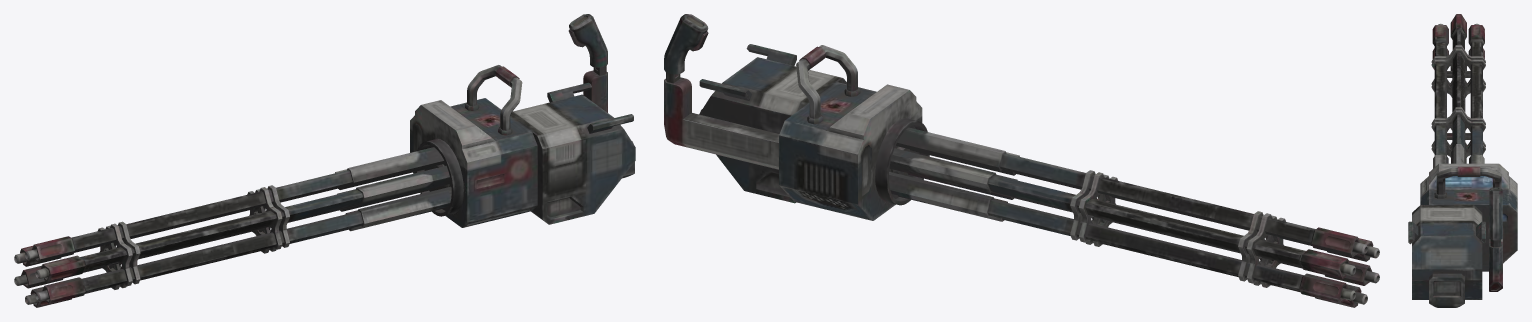
Rendered from cargo_mobile_turret.glb.
3 renders of one model, left to right at view 1: azimuth 30°, elevation 25°; view 2: azimuth 150°, elevation 25°; view 3: azimuth 270°, elevation 25°, orthographic. The views are drawn at different scales.
Visible parts, largest first — view 1: KB3D_BMK_PropGunD; view 2: KB3D_BMK_PropGunD; view 3: KB3D_BMK_PropGunD.
Boxes of the visible parts, x1,y1,x2,y2 form: KB3D_BMK_PropGunD: [14, 14, 635, 307]; KB3D_BMK_PropGunD: [664, 14, 1379, 307]; KB3D_BMK_PropGunD: [1408, 14, 1517, 307].
Bounding box in the file's own units: 1.2 × 0.2894 × 0.2223.
Materials: 1 (1 with a texture image).
